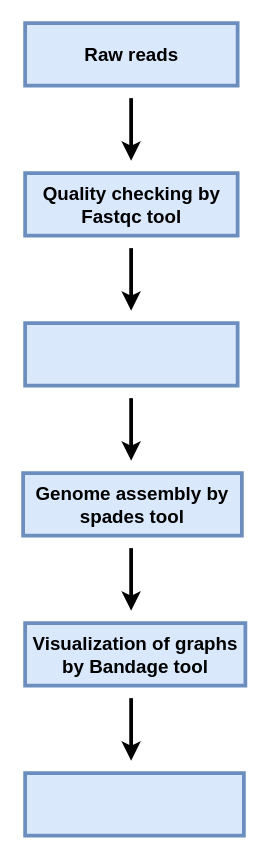
This 269x859 diagram has some shape labels left out. Each missing label, with the centre of its shape:
"Assembly statistics analysis via QUEST tool" goes at pixel 134 804.
"Trimming by fastp tool" goes at pixel 131 354.
